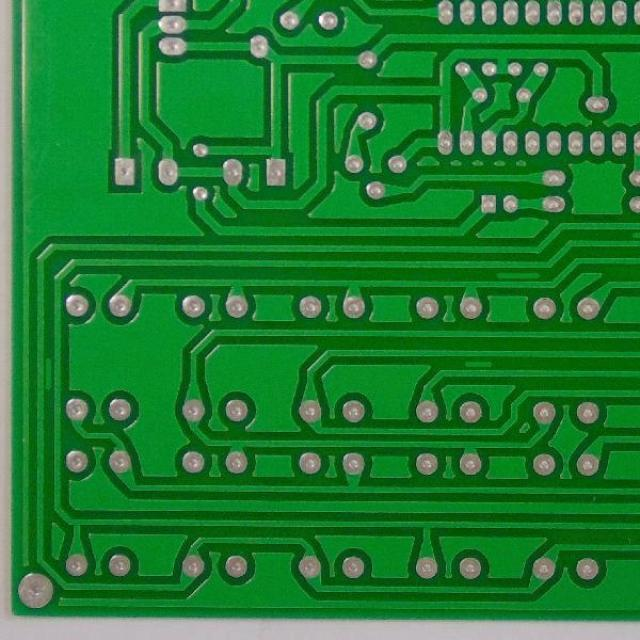Spurious_Cooper: (492, 269, 543, 280), (461, 359, 497, 370), (43, 354, 52, 395), (627, 228, 640, 239)
